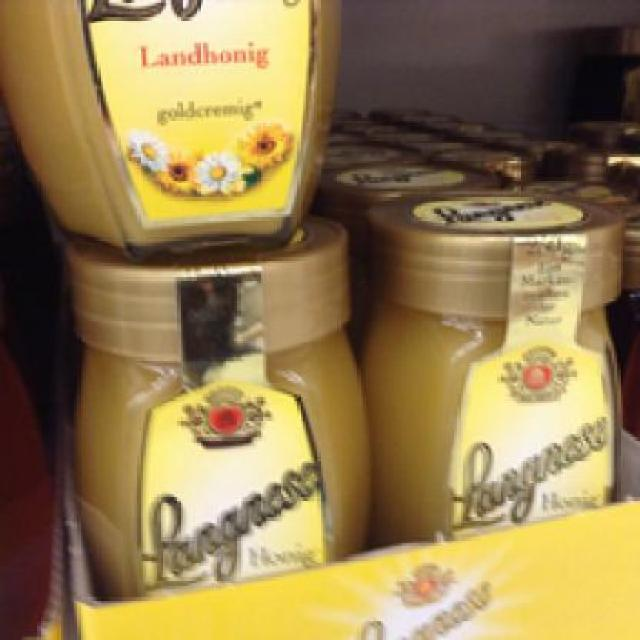Honey: (59, 213, 372, 590), (366, 186, 623, 548)
